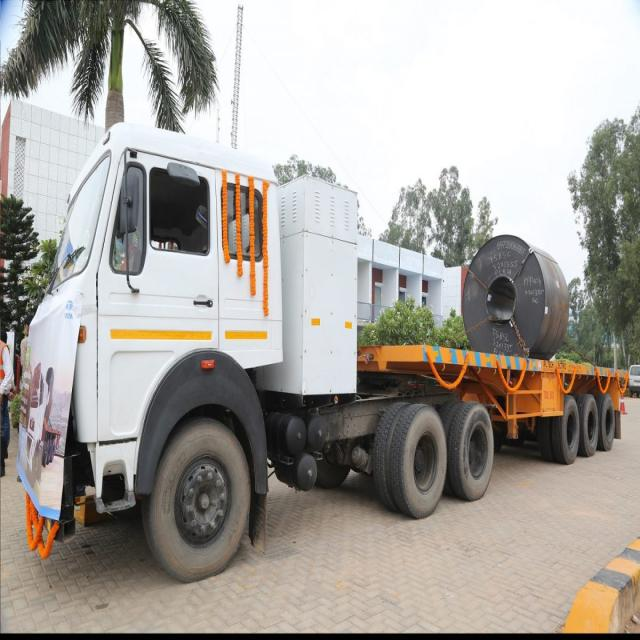truck: (18, 124, 628, 581)
